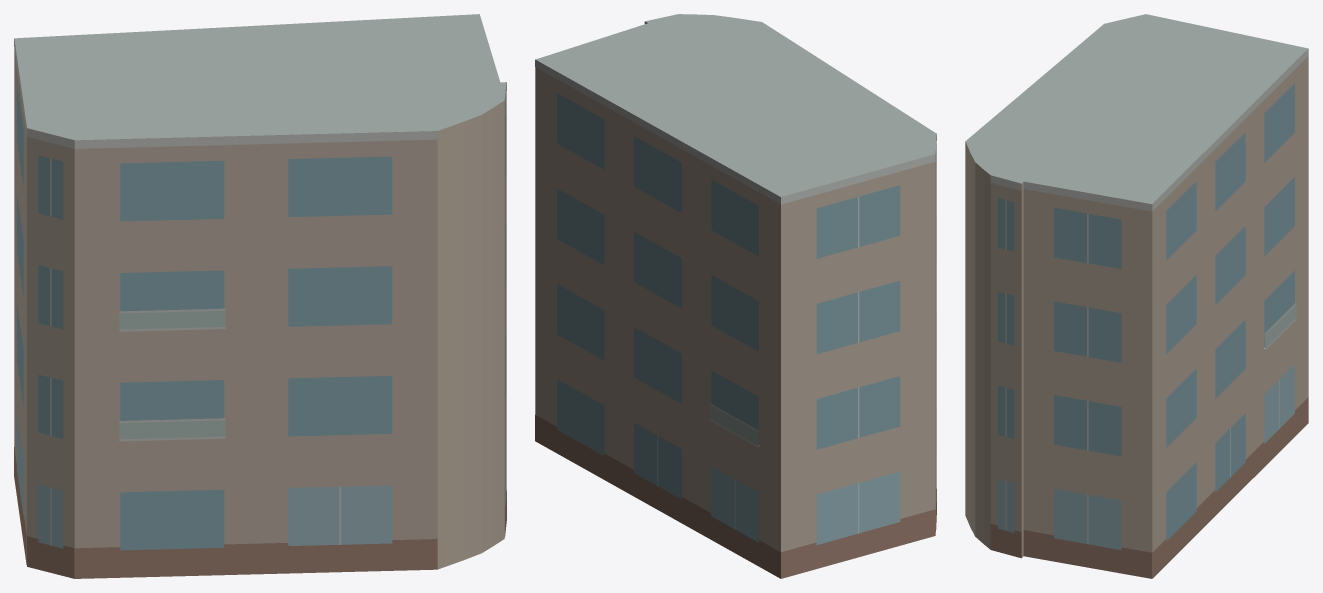
Rendered from survey-upis-32733079.glb.
The picture shows the model from 3 angles, left to right: view 1: azimuth 30°, elevation 25°; view 2: azimuth 150°, elevation 25°; view 3: azimuth 270°, elevation 25°; orthographic projection. The views are drawn at different scales.
Parts seen in each view (by area): view 1: survey-upis-32733079.tmp; view 2: survey-upis-32733079.tmp; view 3: survey-upis-32733079.tmp.
Part boxes in pixels (left/top/right/bottom): survey-upis-32733079.tmp: left=14, top=14, right=506, bottom=578; survey-upis-32733079.tmp: left=535, top=14, right=936, bottom=578; survey-upis-32733079.tmp: left=965, top=14, right=1308, bottom=578.
Bounding box in the file's own units: 13.51 × 12.4 × 10.3.
